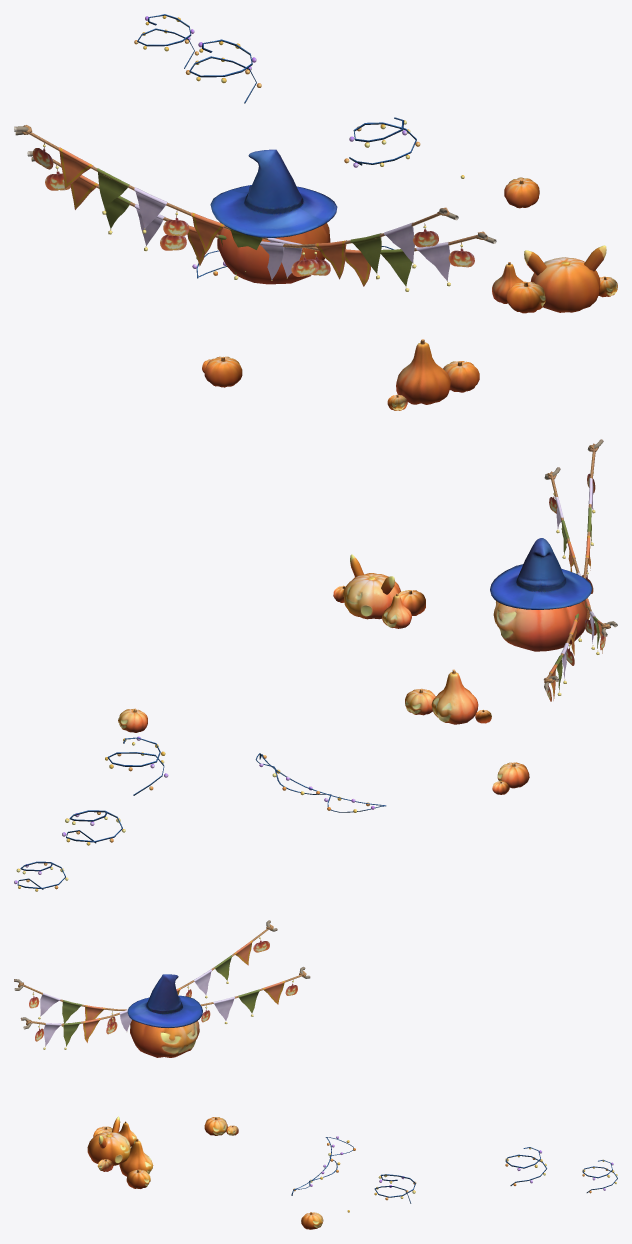
The model's file is pref_sm_4v4beachtech_WSJ_bk_decorate_R02_lv2.fbx.
3 views of the same model, one above another, from view 1: azimuth 30°, elevation 25°; view 2: azimuth 150°, elevation 25°; view 3: azimuth 270°, elevation 25° (orthographic). The views are drawn at different scales.
Parts seen in each view (by area): view 1: sm_4v4beachtech_WSJ_bk_decorate_R02_b_lv2, sm_4v4beachtech_WSJ_bk_decorate_R02_a_lv2; view 2: sm_4v4beachtech_WSJ_bk_decorate_R02_b_lv2, sm_4v4beachtech_WSJ_bk_decorate_R02_a_lv2; view 3: sm_4v4beachtech_WSJ_bk_decorate_R02_b_lv2, sm_4v4beachtech_WSJ_bk_decorate_R02_a_lv2.
Part boxes in pixels (<box>): sm_4v4beachtech_WSJ_bk_decorate_R02_b_lv2: <box>202,149,617,410</box>; sm_4v4beachtech_WSJ_bk_decorate_R02_a_lv2: <box>14,14,496,291</box>; sm_4v4beachtech_WSJ_bk_decorate_R02_b_lv2: <box>118,538,592,794</box>; sm_4v4beachtech_WSJ_bk_decorate_R02_a_lv2: <box>14,439,617,891</box>; sm_4v4beachtech_WSJ_bk_decorate_R02_b_lv2: <box>87,974,323,1229</box>; sm_4v4beachtech_WSJ_bk_decorate_R02_a_lv2: <box>14,920,617,1212</box>.
Size of the model in its own units: 22.79 by 10.94 by 34.57.
